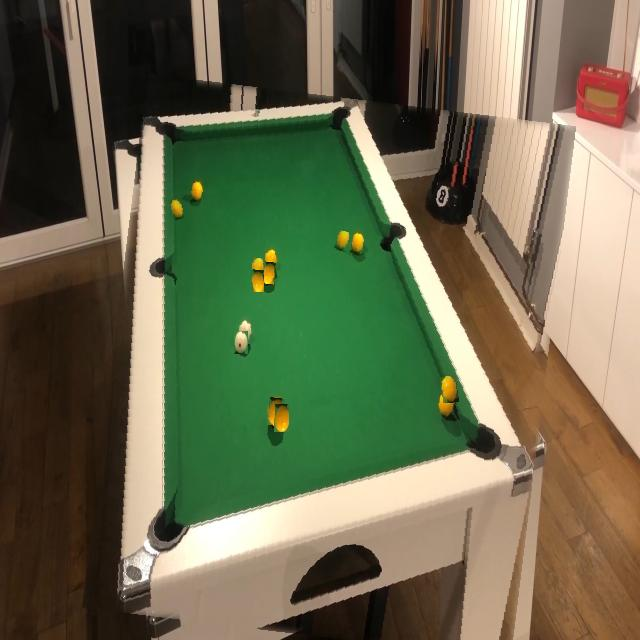Ball: (442, 376, 458, 403), (274, 404, 289, 432), (234, 331, 248, 354), (335, 231, 349, 252), (251, 270, 264, 292), (170, 198, 183, 219), (251, 258, 265, 275)
Billiard table: (97, 85, 560, 640)
